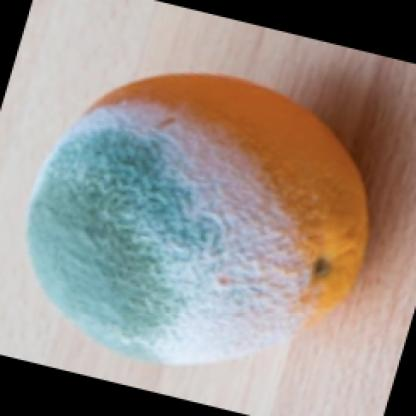rotten: (26, 75, 374, 370)
